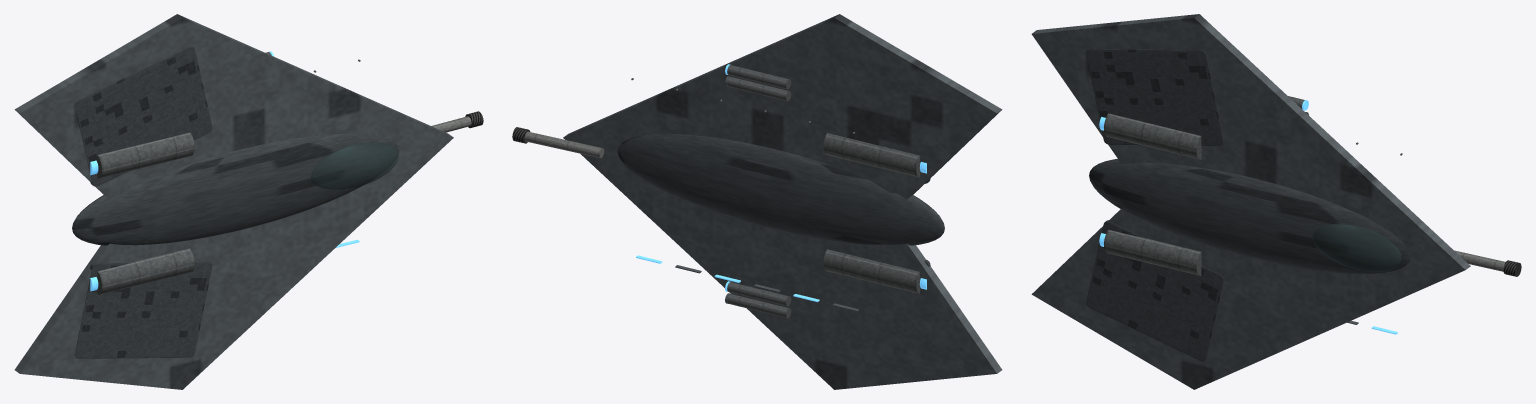
File: s-x06-specter-reserveStrike-lod0.glb
3 views of the same model, side by side, from view 1: azimuth 30°, elevation 25°; view 2: azimuth 150°, elevation 25°; view 3: azimuth 330°, elevation 25° (orthographic).
Visible parts, largest first — view 1: flying_wing_planform, flying_wing_core, flying_wing_elevon_1, flying_wing_elevon_-1, flying_wing_canopy, flying_wing_engine_0, flying_wing_engine_1; view 2: flying_wing_planform, flying_wing_core, flying_wing_engine_0, flying_wing_engine_1, flying_wing_gun_barrel_0, flying_wing_-1_tube_1, flying_wing_-1_tube_2, flying_wing_1_tube_1, flying_wing_1_tube_2; view 3: flying_wing_planform, flying_wing_core, flying_wing_elevon_1, flying_wing_elevon_-1, flying_wing_canopy, flying_wing_engine_0, flying_wing_engine_1, flying_wing_gun_barrel_0.
Boxes of the visible parts, x1,y1,x2,y2 form: flying_wing_planform: (14,14,453,389); flying_wing_core: (72,133,399,245); flying_wing_elevon_1: (74,46,212,186); flying_wing_elevon_-1: (74,262,212,358); flying_wing_canopy: (311,142,398,190); flying_wing_engine_0: (97,248,194,294); flying_wing_engine_1: (97,132,194,178); flying_wing_planform: (563,14,1002,389); flying_wing_core: (617,133,944,245); flying_wing_engine_0: (823,249,919,293); flying_wing_engine_1: (823,133,919,177); flying_wing_gun_barrel_0: (524,131,604,157); flying_wing_-1_tube_1: (727,294,791,318); flying_wing_-1_tube_2: (727,282,791,306); flying_wing_1_tube_1: (727,77,791,101); flying_wing_1_tube_2: (727,65,791,89); flying_wing_planform: (1031,14,1470,389); flying_wing_core: (1089,159,1410,273); flying_wing_elevon_1: (1086,49,1223,145); flying_wing_elevon_-1: (1086,220,1223,361); flying_wing_canopy: (1313,223,1401,271); flying_wing_engine_0: (1104,229,1201,275); flying_wing_engine_1: (1104,113,1201,159); flying_wing_gun_barrel_0: (1454,250,1505,271).
Size of what is drawn, in the model's own units: 15.29 by 11.48 by 1.47.
Materials: 7 (7 with a texture image).
